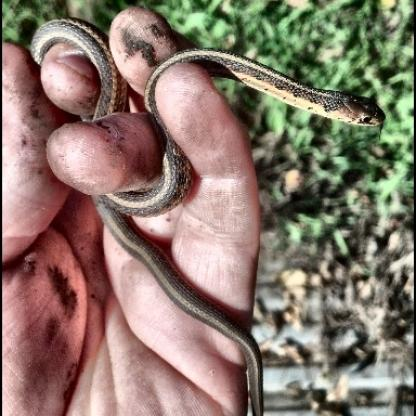Snake: (28, 13, 391, 218)
